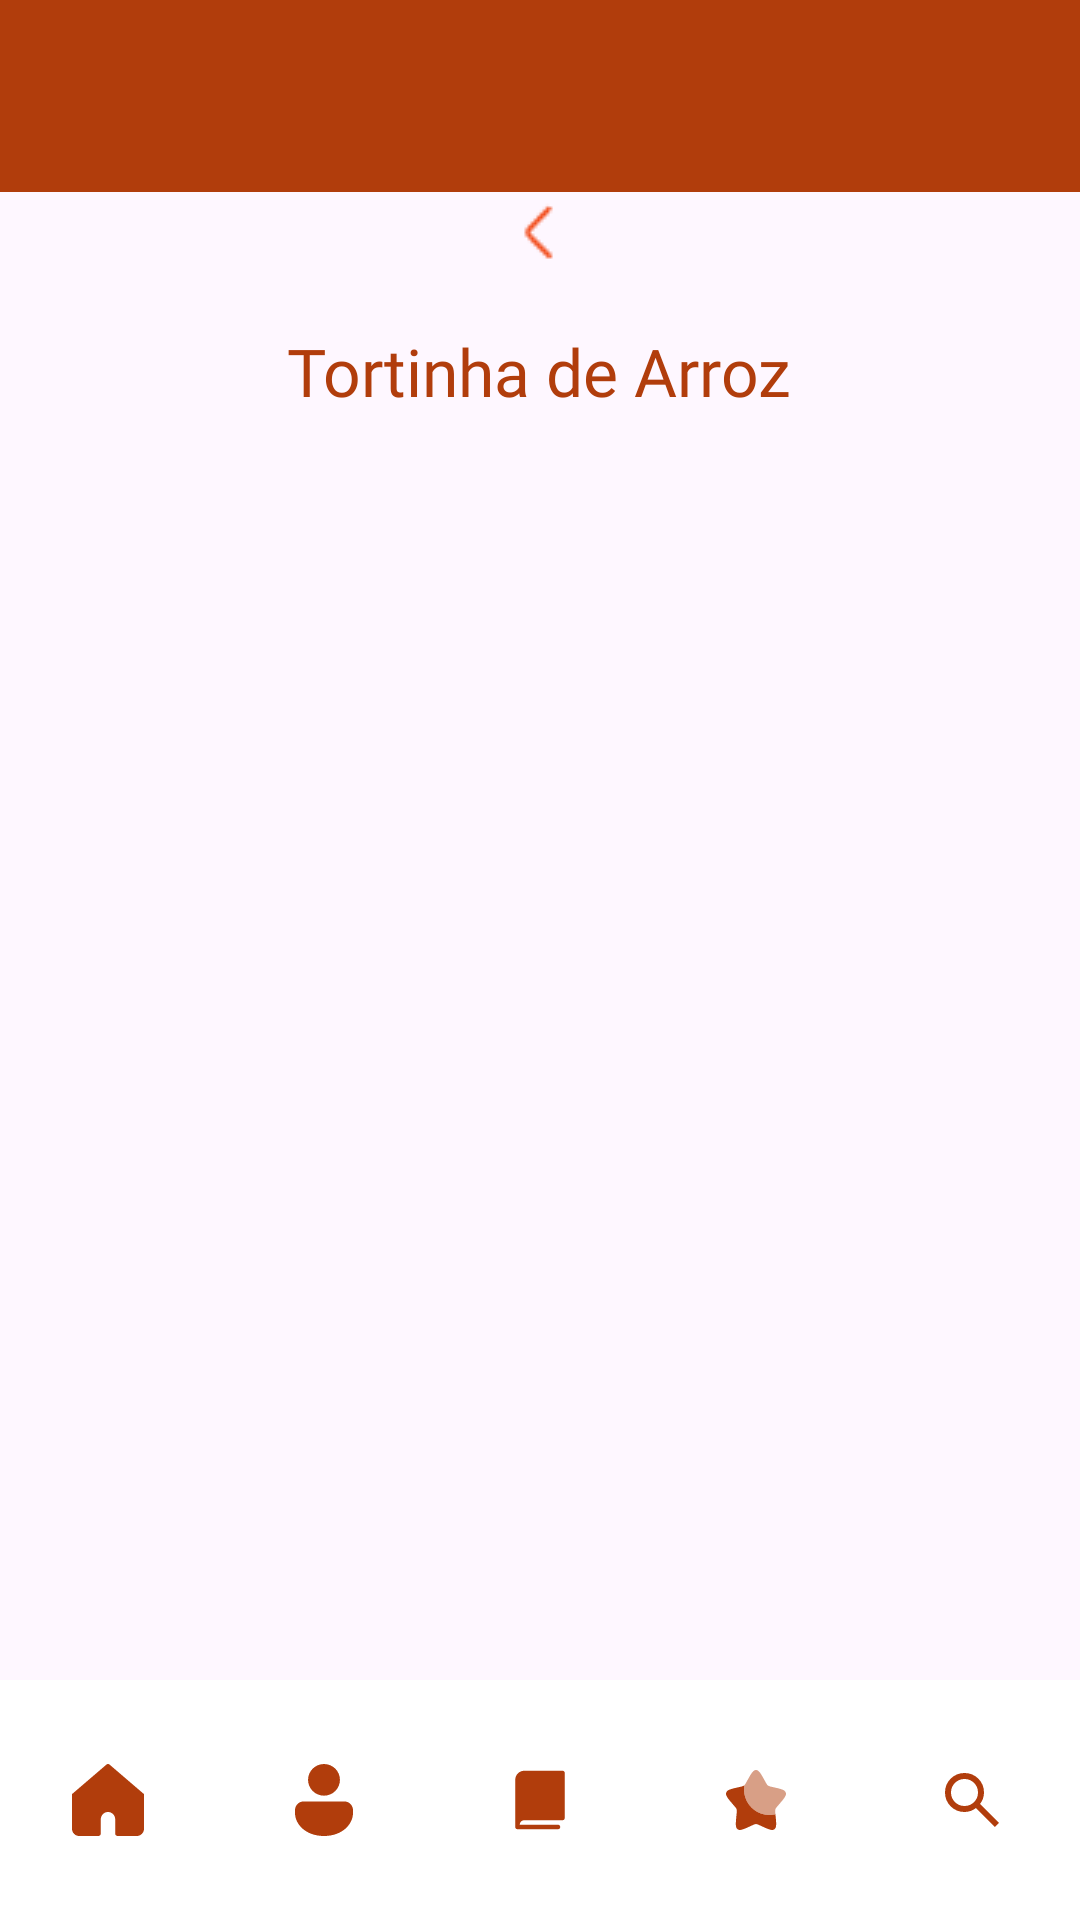

Point at icon controls on the screen. Image size 1080w x 1920h, points as (x=x, y=y).
setadesaida: (x=538, y=232)
